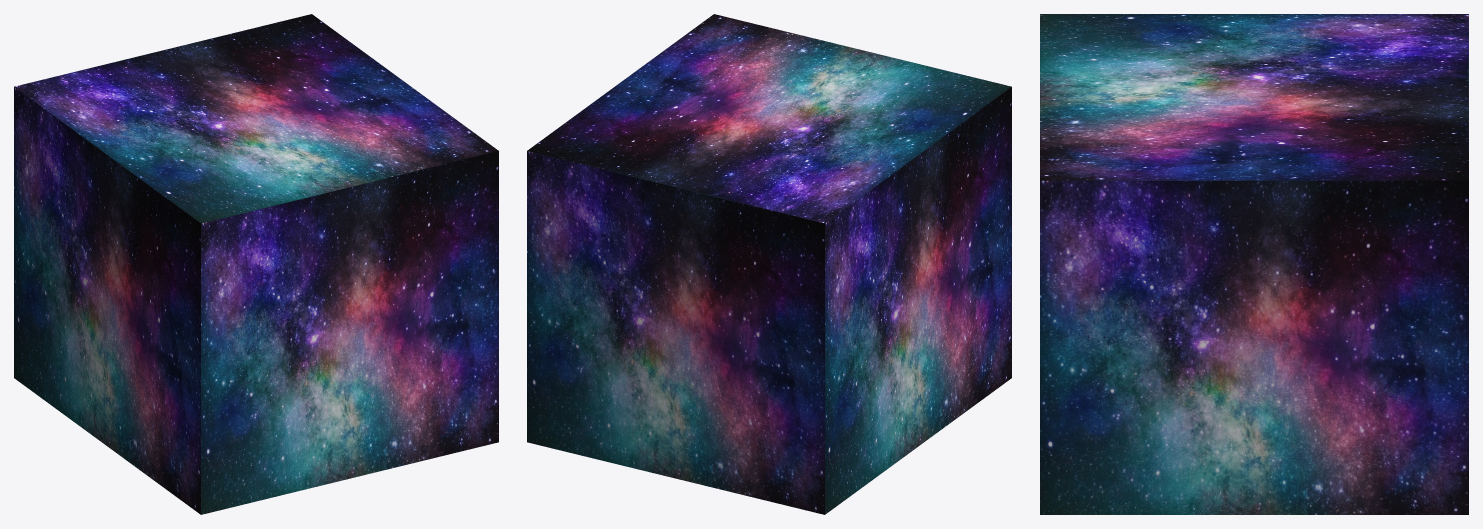
The model's file is item.FBX.
The picture shows the model from 3 angles, left to right: view 1: azimuth 30°, elevation 25°; view 2: azimuth 150°, elevation 25°; view 3: azimuth 270°, elevation 25°; orthographic projection. The views are drawn at different scales.
Parts seen in each view (by area): view 1: Box001; view 2: Box001; view 3: Box001.
Part boxes in pixels (x1,y1,x2,y2): Box001: [14, 14, 498, 514]; Box001: [527, 14, 1011, 514]; Box001: [1040, 14, 1468, 514].
Size of the model in its own units: 12.79 by 11.96 by 13.91.
